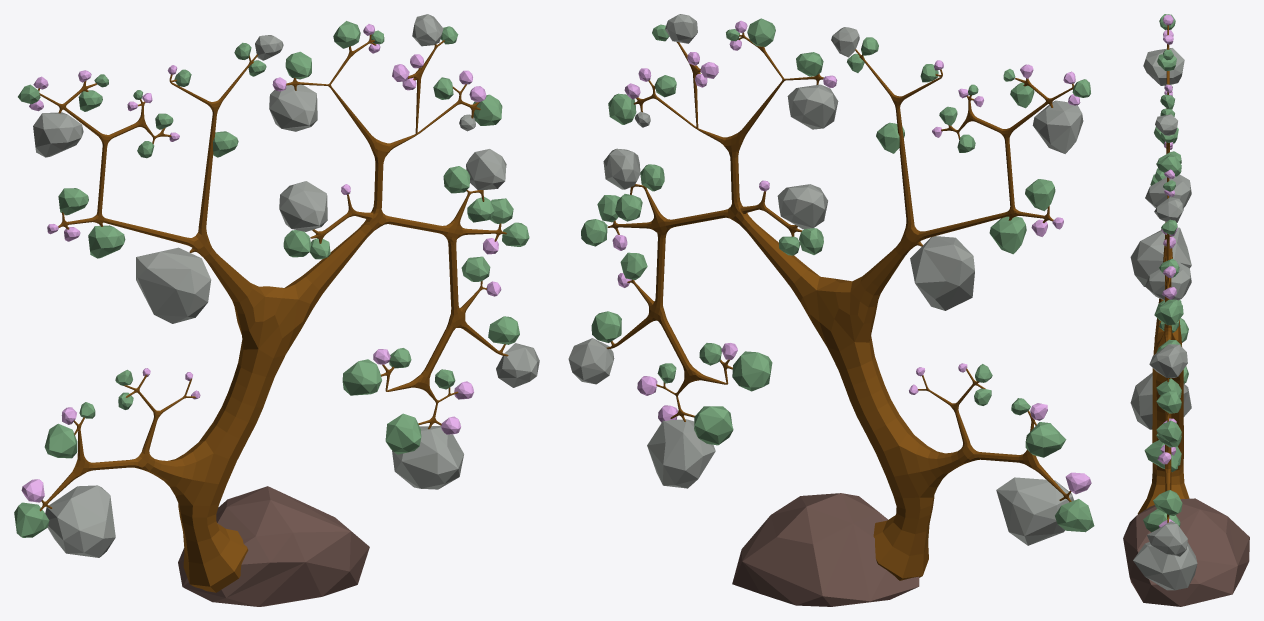
File: TreeMap.fbx
3 views of the same model, side by side, from view 1: azimuth 30°, elevation 25°; view 2: azimuth 150°, elevation 25°; view 3: azimuth 270°, elevation 25° (orthographic). The views are drawn at different scales.
Parts seen in each view (by area): view 1: Cube, Icosphere, Icosphere.059, Icosphere.064, Icosphere.003, Icosphere.031, Icosphere.030, Icosphere.052, Icosphere.004, Icosphere.018, Icosphere.011, Icosphere.009 (+6 smaller); view 2: Cube, Icosphere, Icosphere.059, Icosphere.064, Icosphere.003, Icosphere.052, Icosphere.030, Icosphere.031, Icosphere.004, Icosphere.011, Icosphere.009, Icosphere.018 (+6 smaller); view 3: Icosphere, Cube, Icosphere.003, Icosphere.059, Icosphere.064, Icosphere.004, Icosphere.018, Icosphere.031, Icosphere.052, Icosphere.030, Icosphere.019, Icosphere.006 (+9 smaller).
Part boxes in pixels (left/top/right/bottom): Cube: left=38, top=34, right=508, bottom=592; Icosphere: left=178, top=486, right=369, bottom=606; Icosphere.059: left=136, top=247, right=211, bottom=323; Icosphere.064: left=45, top=485, right=115, bottom=557; Icosphere.003: left=392, top=426, right=463, bottom=489; Icosphere.031: left=279, top=181, right=327, bottom=231; Icosphere.030: left=269, top=82, right=317, bottom=131; Icosphere.052: left=33, top=112, right=83, bottom=157; Icosphere.004: left=496, top=343, right=539, bottom=387; Icosphere.018: left=466, top=149, right=506, bottom=189; Icosphere.011: left=385, top=413, right=421, bottom=454; Icosphere.009: left=342, top=359, right=381, bottom=395; Cube: left=606, top=32, right=1074, bottom=580; Icosphere: left=732, top=493, right=919, bottom=606; Icosphere.059: left=910, top=236, right=974, bottom=310; Icosphere.064: left=996, top=477, right=1073, bottom=545; Icosphere.003: left=647, top=419, right=715, bottom=488; Icosphere.052: left=1032, top=100, right=1083, bottom=153; Icosphere.030: left=787, top=84, right=838, bottom=129; Icosphere.031: left=777, top=184, right=827, bottom=229; Icosphere.004: left=568, top=338, right=614, bottom=384; Icosphere.011: left=694, top=406, right=733, bottom=445; Icosphere.009: left=732, top=351, right=772, bottom=391; Icosphere.018: left=603, top=148, right=640, bottom=189; Icosphere: left=1123, top=498, right=1249, bottom=606; Cube: left=1137, top=25, right=1189, bottom=522; Icosphere.003: left=1133, top=542, right=1197, bottom=590; Icosphere.059: left=1130, top=227, right=1191, bottom=286; Icosphere.064: left=1130, top=372, right=1191, bottom=429; Icosphere.004: left=1147, top=521, right=1187, bottom=556; Icosphere.018: left=1149, top=344, right=1187, bottom=377; Icosphere.031: left=1145, top=261, right=1191, bottom=300; Icosphere.052: left=1143, top=48, right=1184, bottom=85; Icosphere.030: left=1145, top=174, right=1191, bottom=208; Icosphere.019: left=1154, top=299, right=1183, bottom=325; Icosphere.006: left=1153, top=490, right=1182, bottom=515.
Bounding box in the file's own units: 7119 × 7504 × 1826.
